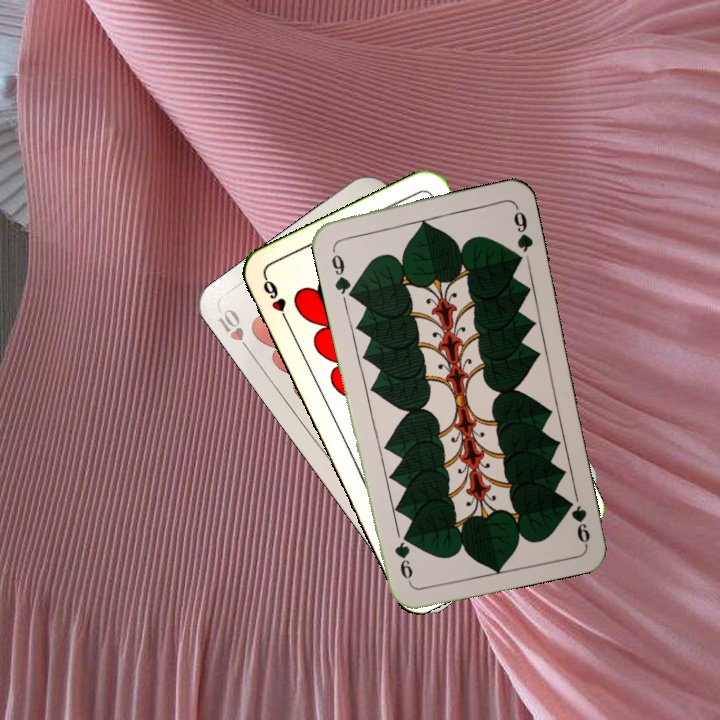G9: (327, 243, 356, 300), (567, 501, 593, 546)
H10: (213, 304, 256, 358)
H9: (259, 273, 293, 328)
